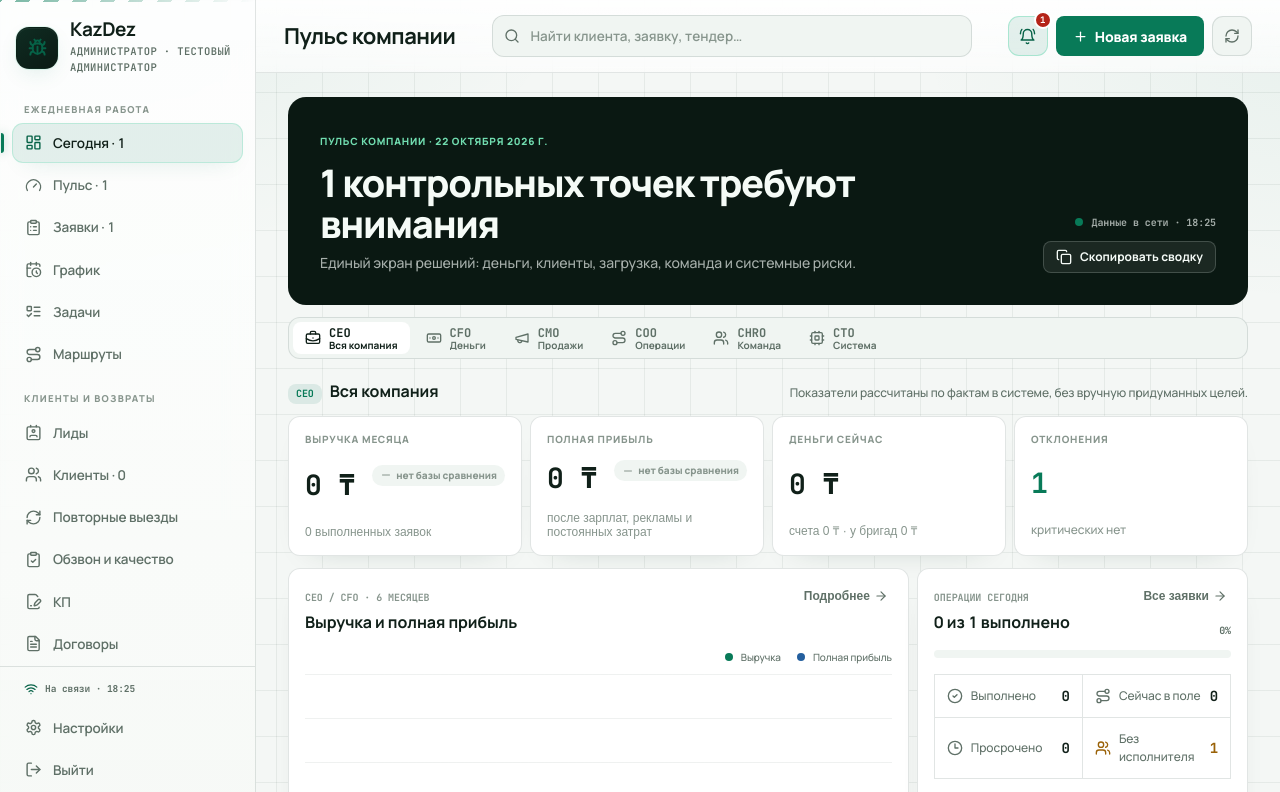
Test: refresh button loads tables, retains last good jobs on error and recovers on retry
Click the button named "Обновить данные".
click(1232, 36)  # box [1212,16,1252,56]
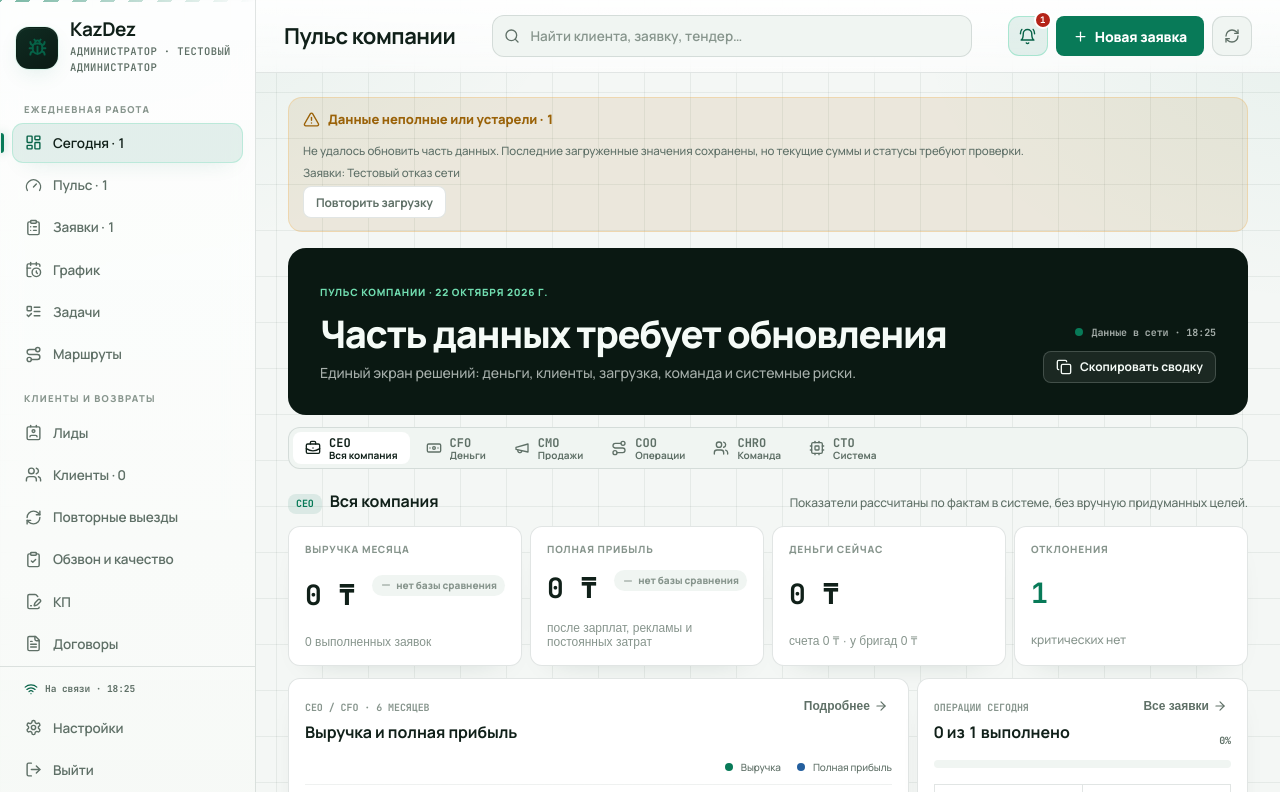
Check: the text "Данные неполные или устарели" is shown, box [303,110,554,128]
Click the button named "Обновить данные".
click(1232, 36)  # box [1212,16,1252,56]
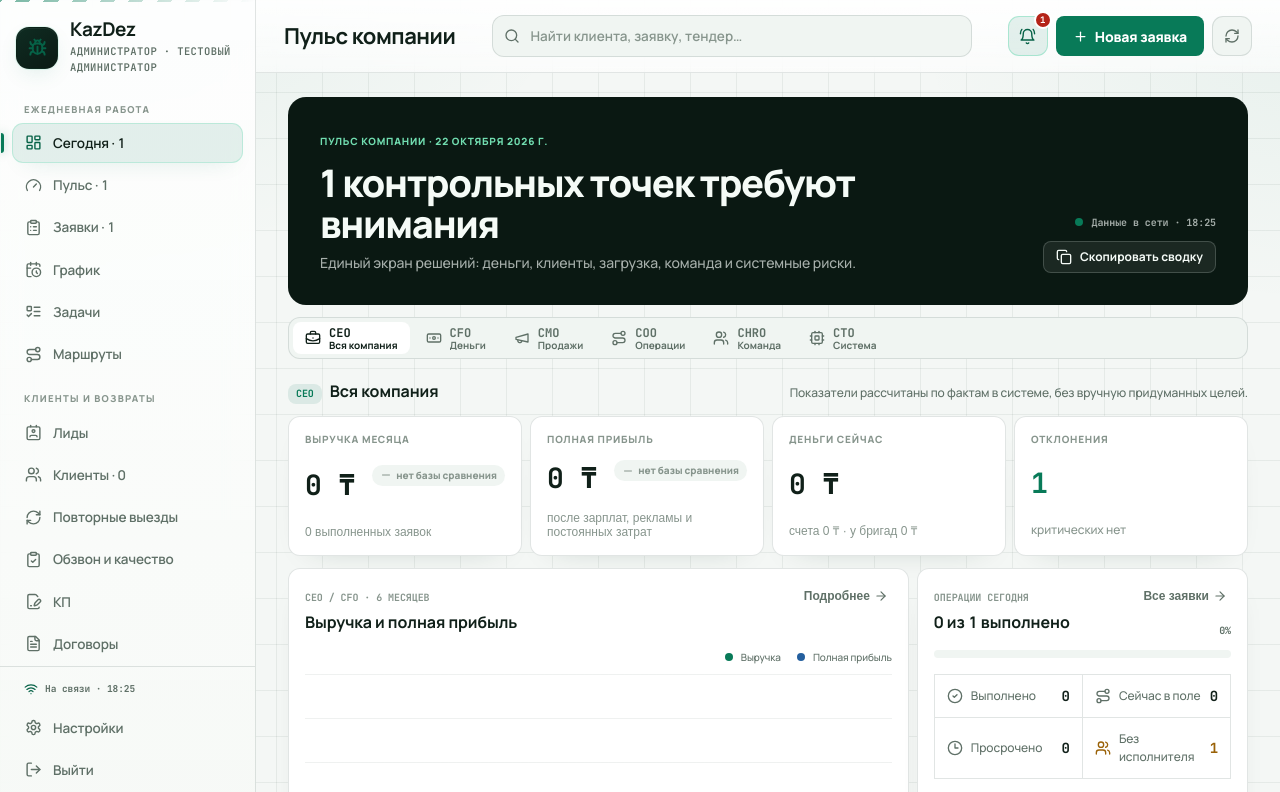
Check: the text "Данные неполные или устарели" is gone
